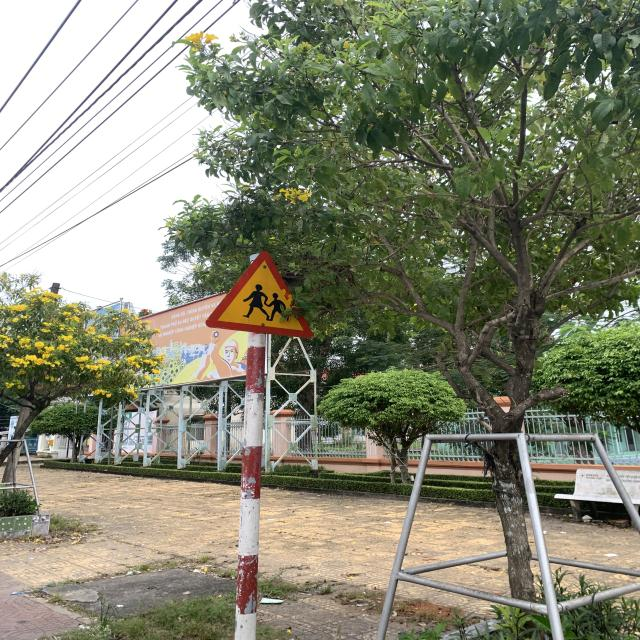Vong_Xuyen: (206, 250, 314, 340)
